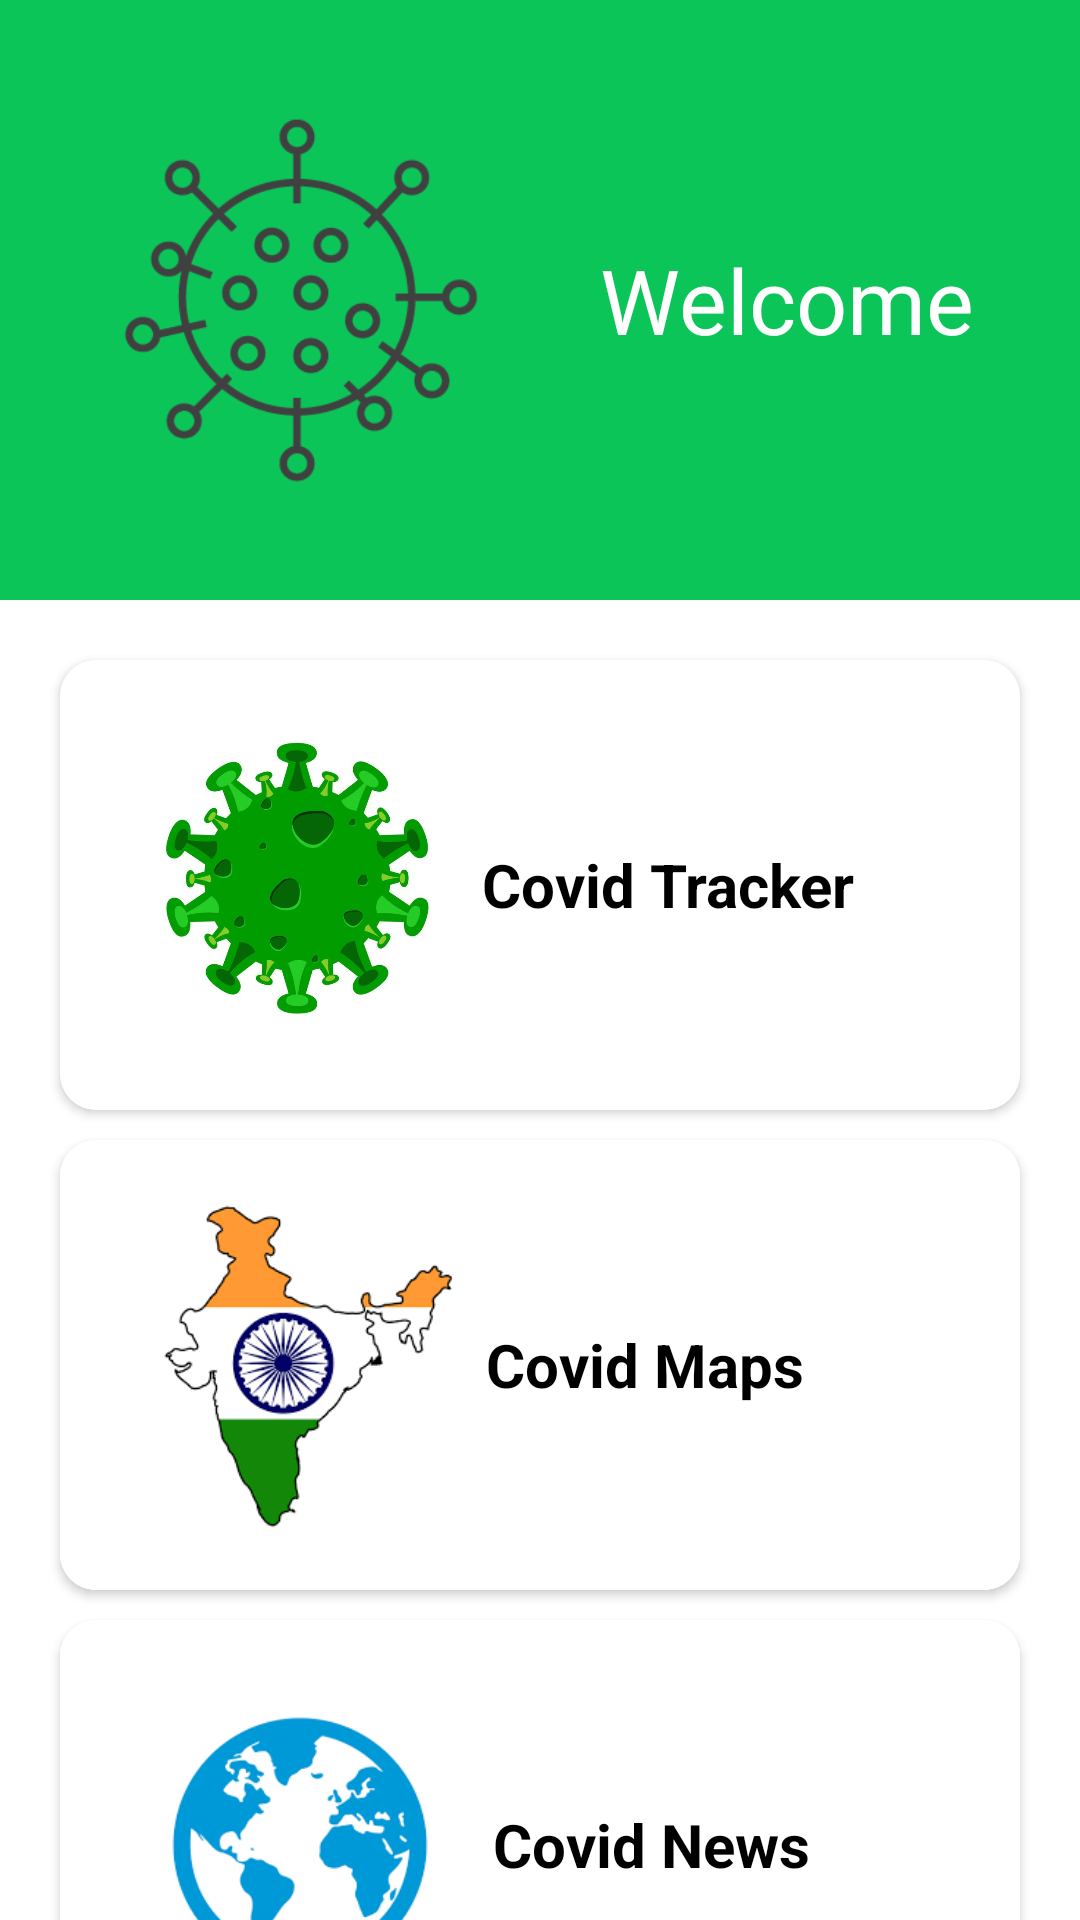

Named icons in this screenshot (1080px×1920px) and their bounding boxes, {"left": x1, "top": y1, "right": x2, "bottom": y2}:
india: {"left": 164, "top": 1206, "right": 524, "bottom": 1527}
